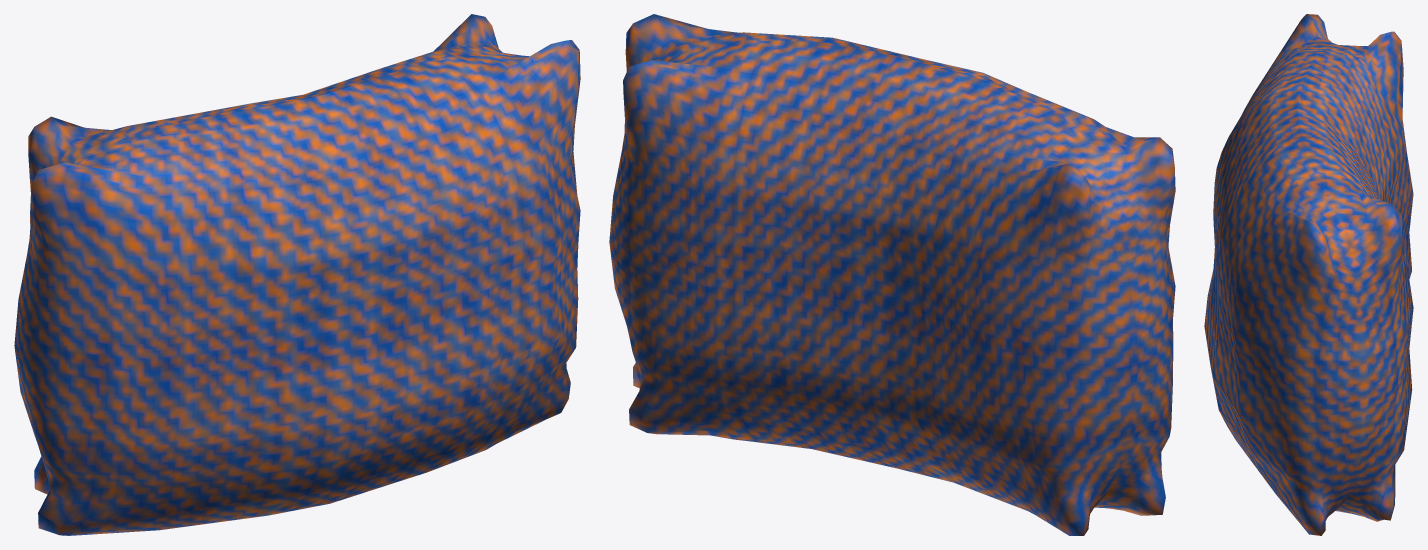
Rendered from pillow1.fbx.
3 renders of one model, left to right at view 1: azimuth 30°, elevation 25°; view 2: azimuth 150°, elevation 25°; view 3: azimuth 270°, elevation 25°, orthographic. The views are drawn at different scales.
Parts seen in each view (by area): view 1: pillow_curvet; view 2: pillow_curvet; view 3: pillow_curvet.
Part boxes in pixels (x1=…): pillow_curvet: x1=14, y1=14, x2=580, y2=535; pillow_curvet: x1=609, y1=14, x2=1175, y2=535; pillow_curvet: x1=1204, y1=14, x2=1413, y2=535.
Size of the model in its own units: 92.97 by 65.84 by 36.52.
